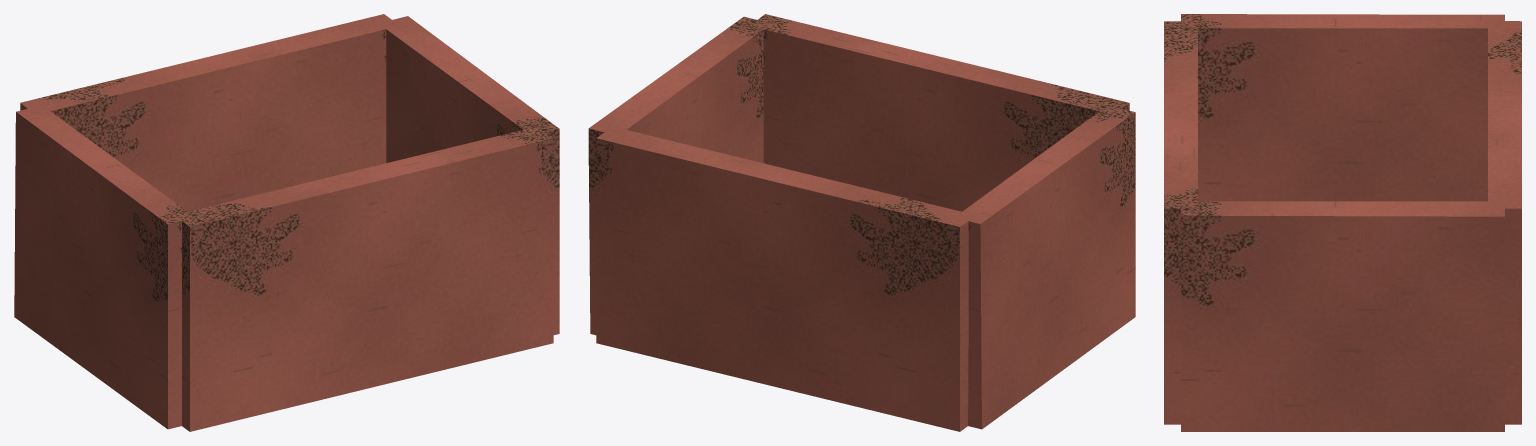
The model's file is crate2_v1.glb.
3 views of the same model, side by side, from view 1: azimuth 30°, elevation 25°; view 2: azimuth 150°, elevation 25°; view 3: azimuth 270°, elevation 25° (orthographic). The views are drawn at different scales.
Parts seen in each view (by area): view 1: Variant_crate2_1; view 2: Variant_crate2_1; view 3: Variant_crate2_1.
Part boxes in pixels (x1,y1,x2,y2): Variant_crate2_1: (14, 14, 559, 431); Variant_crate2_1: (588, 14, 1135, 431); Variant_crate2_1: (1164, 14, 1521, 431).
Bounding box in the file's own units: 0.5627 × 0.28 × 0.42.
Materials: 1 (1 with a texture image).
